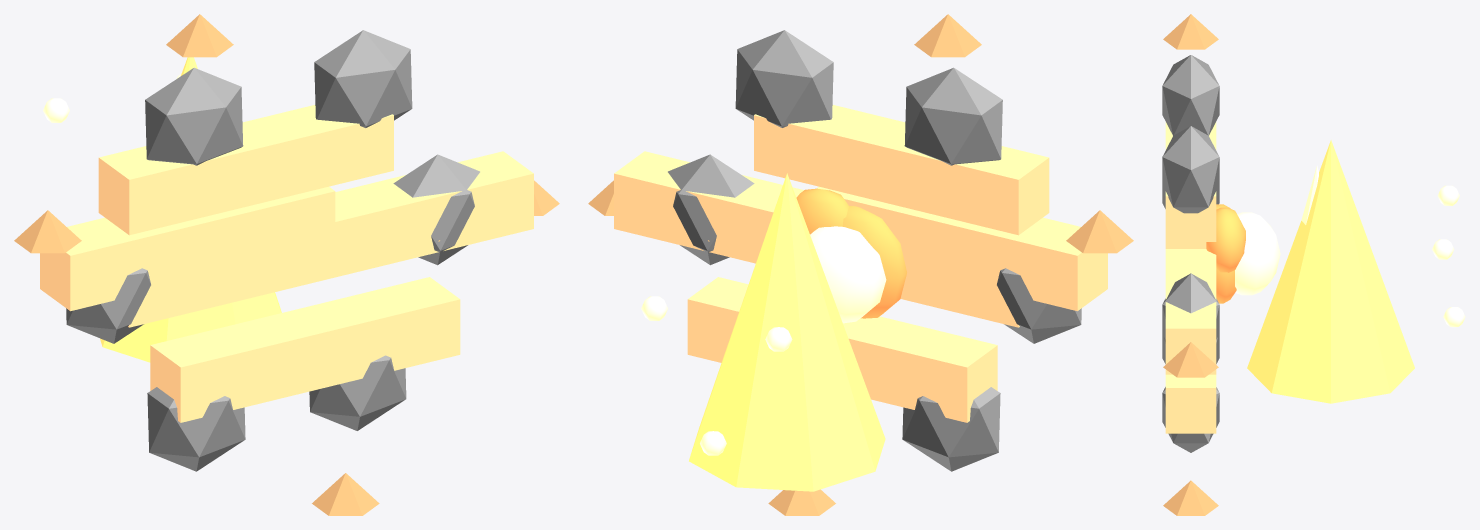
File: campfire.glb
3 views of the same model, side by side, from view 1: azimuth 30°, elevation 25°; view 2: azimuth 150°, elevation 25°; view 3: azimuth 270°, elevation 25° (orthographic). The views are drawn at different scales.
Parts seen in each view (by area): view 1: log.002, log.003, log.001, log, stone.002, stone.001, stone.004, log.004, stone.005, flame_outer, stone, stone.003 (+3 smaller); view 2: flame_outer, log.003, log.002, log.001, log, log.004, stone.002, stone.001, stone.004, flame_glow, stone, stone.003 (+5 smaller); view 3: flame_outer, log, stone.001, stone.002, log.002, flame_glow, log.003, coal2, stone, log_cap, log_cap.003, log_cap.002 (+5 smaller).
Boxes of the visible parts, x1=… form: log.002: x1=150, y1=277, x2=460, y2=422; log.003: x1=98, y1=105, x2=393, y2=235; log.001: x1=40, y1=186, x2=335, y2=311; log: x1=254, y1=151, x2=533, y2=296; stone.002: x1=145, y1=67, x2=243, y2=165; stone.001: x1=314, y1=30, x2=412, y2=127; stone.004: x1=147, y1=387, x2=245, y2=471; log.004: x1=128, y1=188, x2=384, y2=327; stone.005: x1=309, y1=355, x2=406, y2=430; flame_outer: x1=100, y1=57, x2=281, y2=362; stone: x1=393, y1=154, x2=479, y2=265; stone.003: x1=66, y1=268, x2=150, y2=343; flame_outer: x1=689, y1=173, x2=885, y2=491; log.003: x1=754, y1=105, x2=1049, y2=235; log.002: x1=687, y1=277, x2=997, y2=422; log.001: x1=816, y1=186, x2=1107, y2=311; log: x1=614, y1=151, x2=803, y2=263; log.004: x1=695, y1=191, x2=1019, y2=327; stone.002: x1=904, y1=67, x2=1002, y2=165; stone.001: x1=735, y1=30, x2=833, y2=127; stone.004: x1=902, y1=387, x2=1000, y2=471; flame_glow: x1=810, y1=226, x2=886, y2=323; stone: x1=668, y1=154, x2=754, y2=265; stone.003: x1=997, y1=268, x2=1081, y2=343; flame_outer: x1=1247, y1=140, x2=1414, y2=403; log: x1=1165, y1=249, x2=1216, y2=374; stone.001: x1=1162, y1=126, x2=1219, y2=213; stone.002: x1=1162, y1=55, x2=1219, y2=135; log.002: x1=1165, y1=374, x2=1216, y2=433; flame_glow: x1=1235, y1=212, x2=1280, y2=295; log.003: x1=1165, y1=122, x2=1216, y2=241; coal2: x1=1206, y1=207, x2=1245, y2=272; stone: x1=1162, y1=273, x2=1219, y2=339; log_cap: x1=1163, y1=342, x2=1218, y2=377; log_cap.003: x1=1163, y1=14, x2=1218, y2=49; log_cap.002: x1=1163, y1=480, x2=1218, y2=515.
Bounding box in the file's own units: 1.8 × 1.71 × 1.08.
